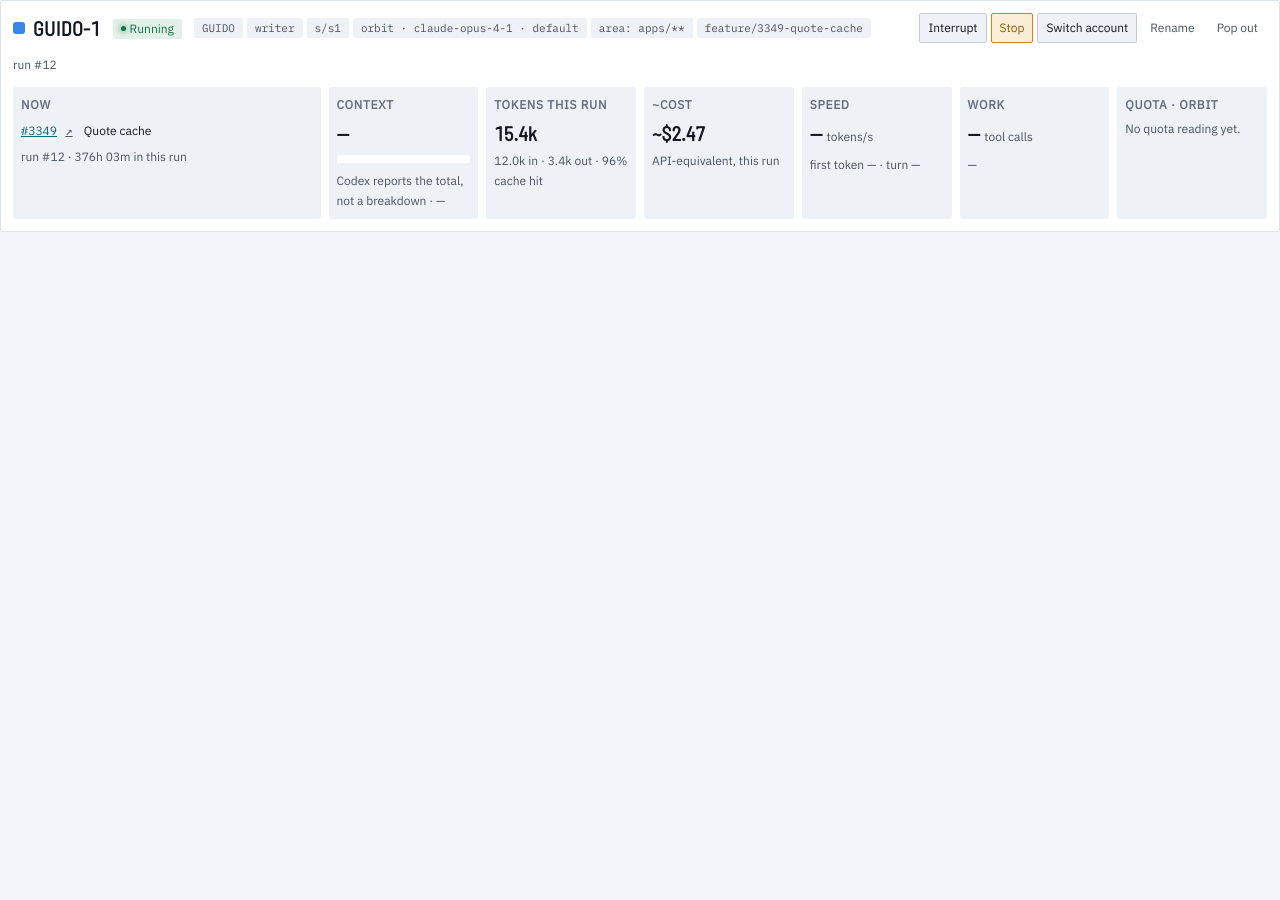
Test: reports fresh and refreshes data only after the explicit transfer
The width and height of the screenshot is (1280, 900).
Click the button "Switch account" at (1087, 28), box left=1037, top=13, right=1137, bottom=43
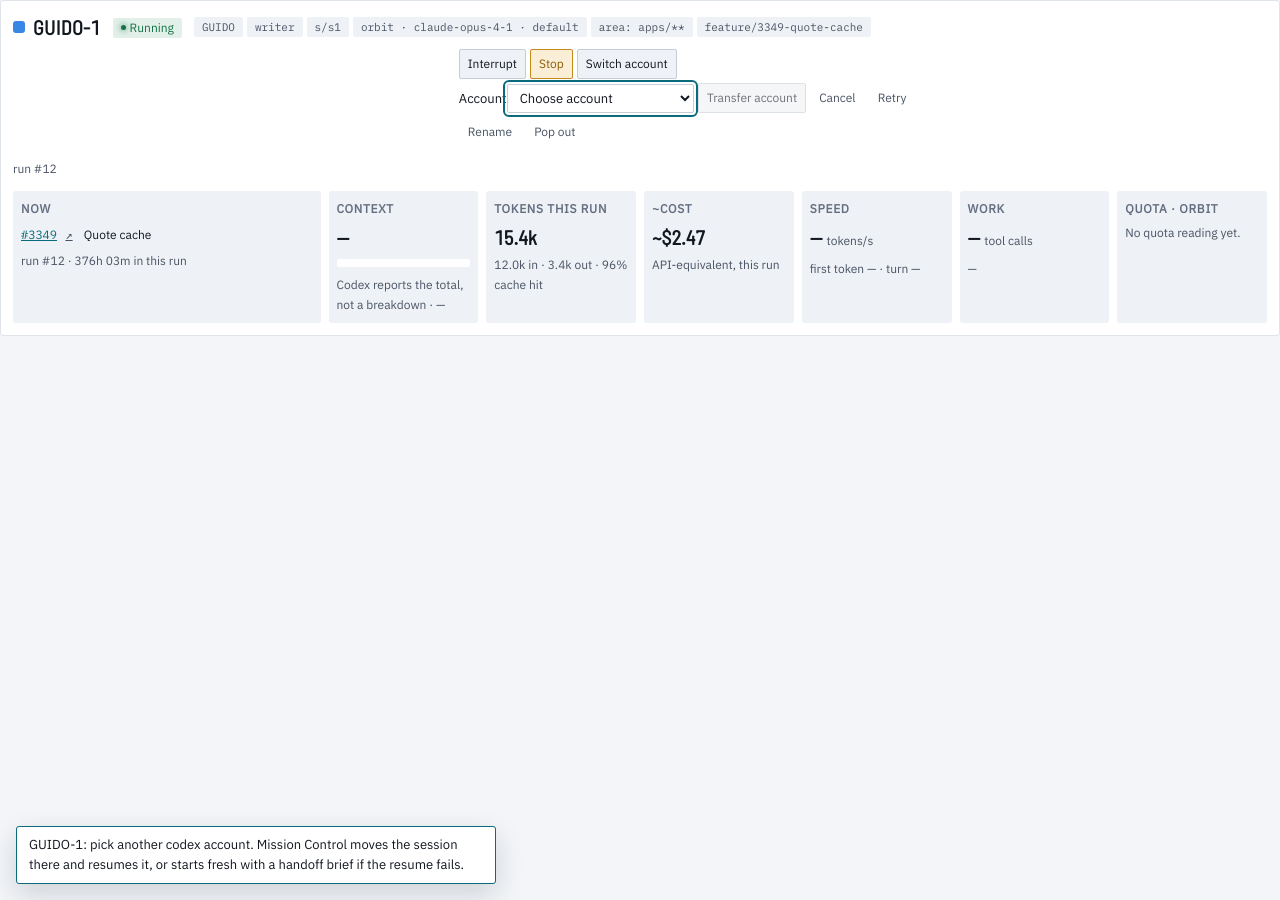
Select "nova · Available" in the dropdown labelled "Account" at (600, 98), box left=507, top=84, right=694, bottom=112
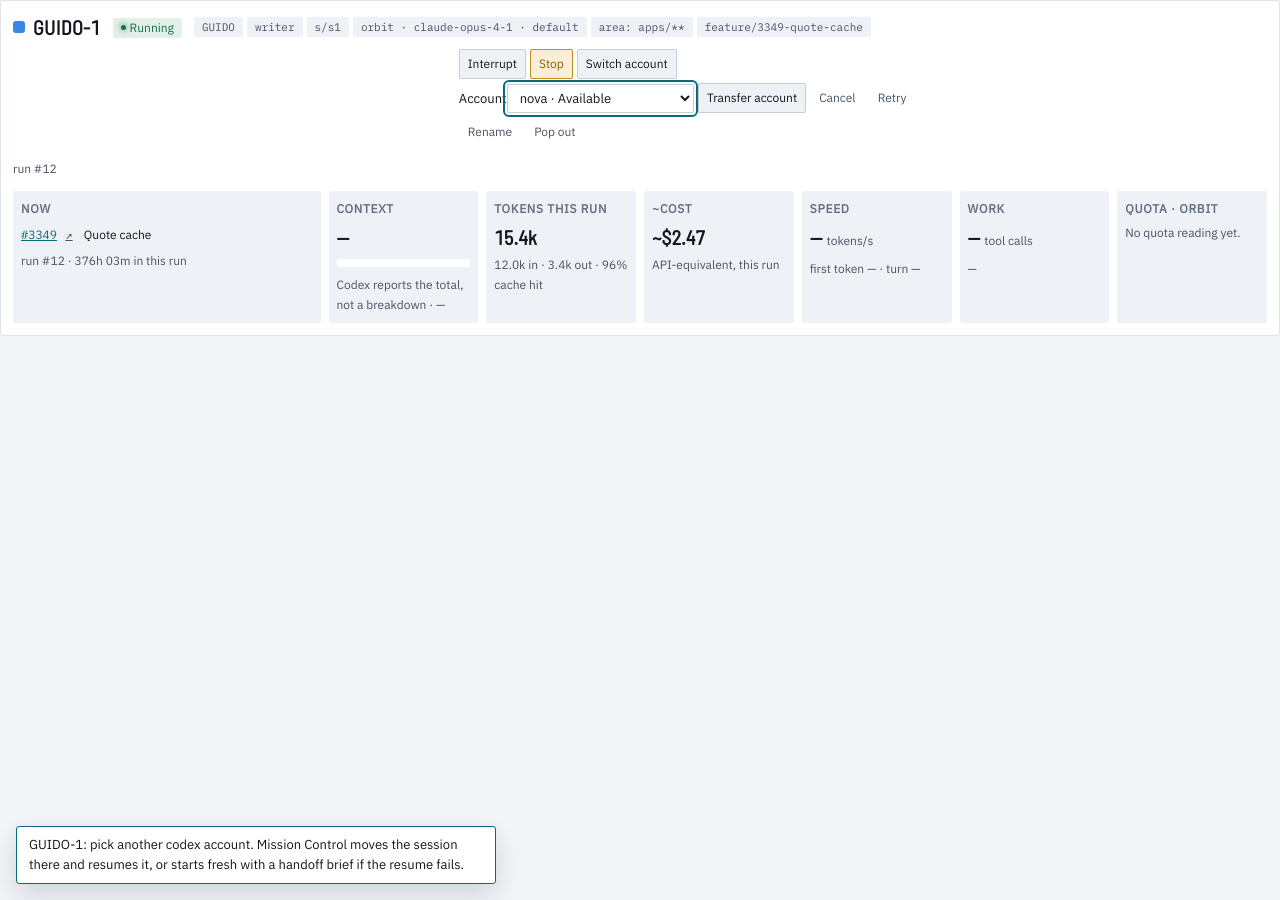
Expected: the button "Transfer account" is enabled, left=698, top=83, right=806, bottom=113
Submit the form named "Switch account", box left=459, top=83, right=915, bottom=113
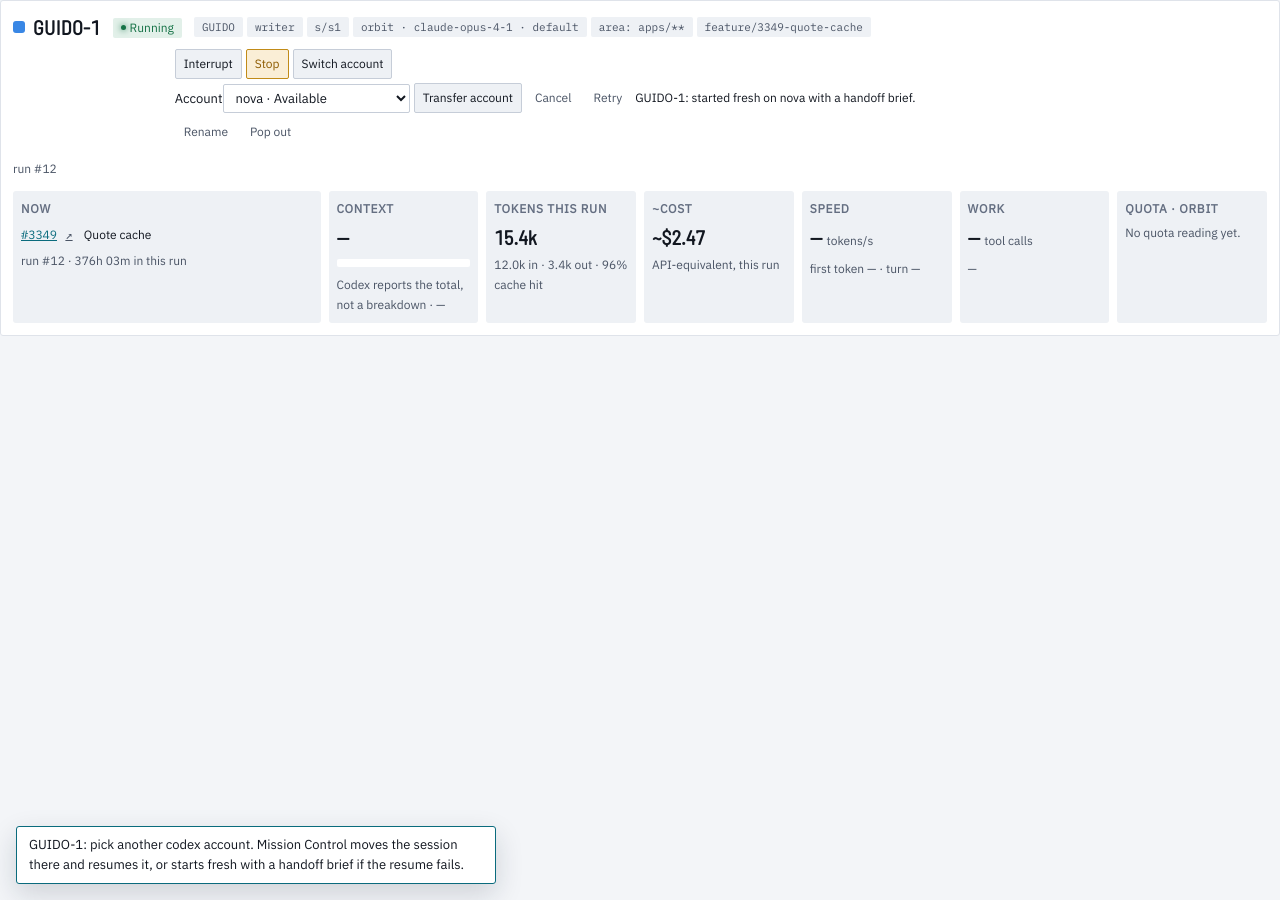
Expected: the text titled "orbit ·" is shown, left=353, top=17, right=587, bottom=37
Expected: the text "GUIDO-1: started fresh on nova with a handoff brief." is shown, left=635, top=88, right=916, bottom=108
